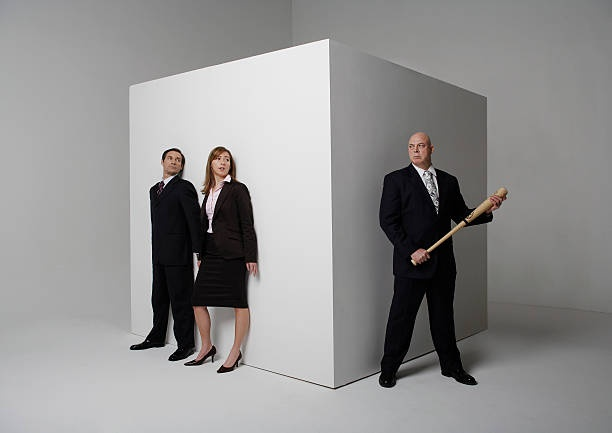bita: (410, 192, 506, 262)
